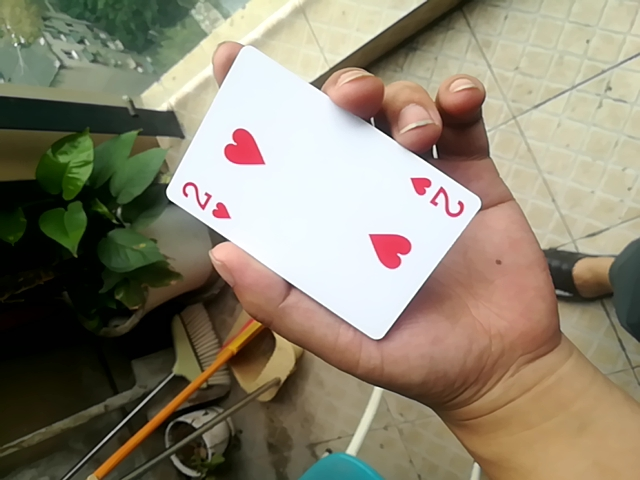hx 2: (162, 43, 483, 347)
